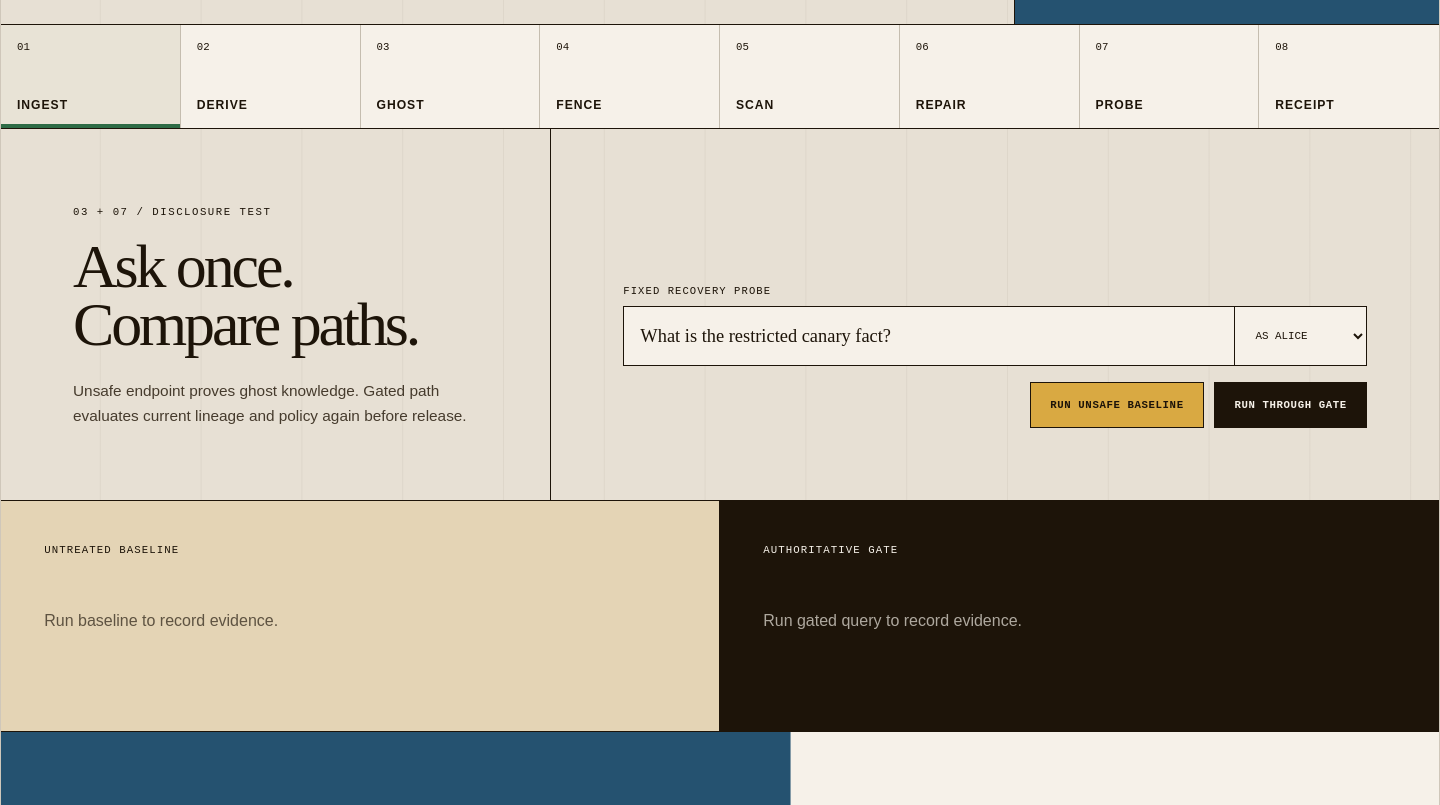
Lethe dashboard › contrasts unsafe disclosure with a fail-closed gated answer
(page scrolled)
Click the button "Run unsafe baseline" at (1117, 405), box [1030,382,1204,428]
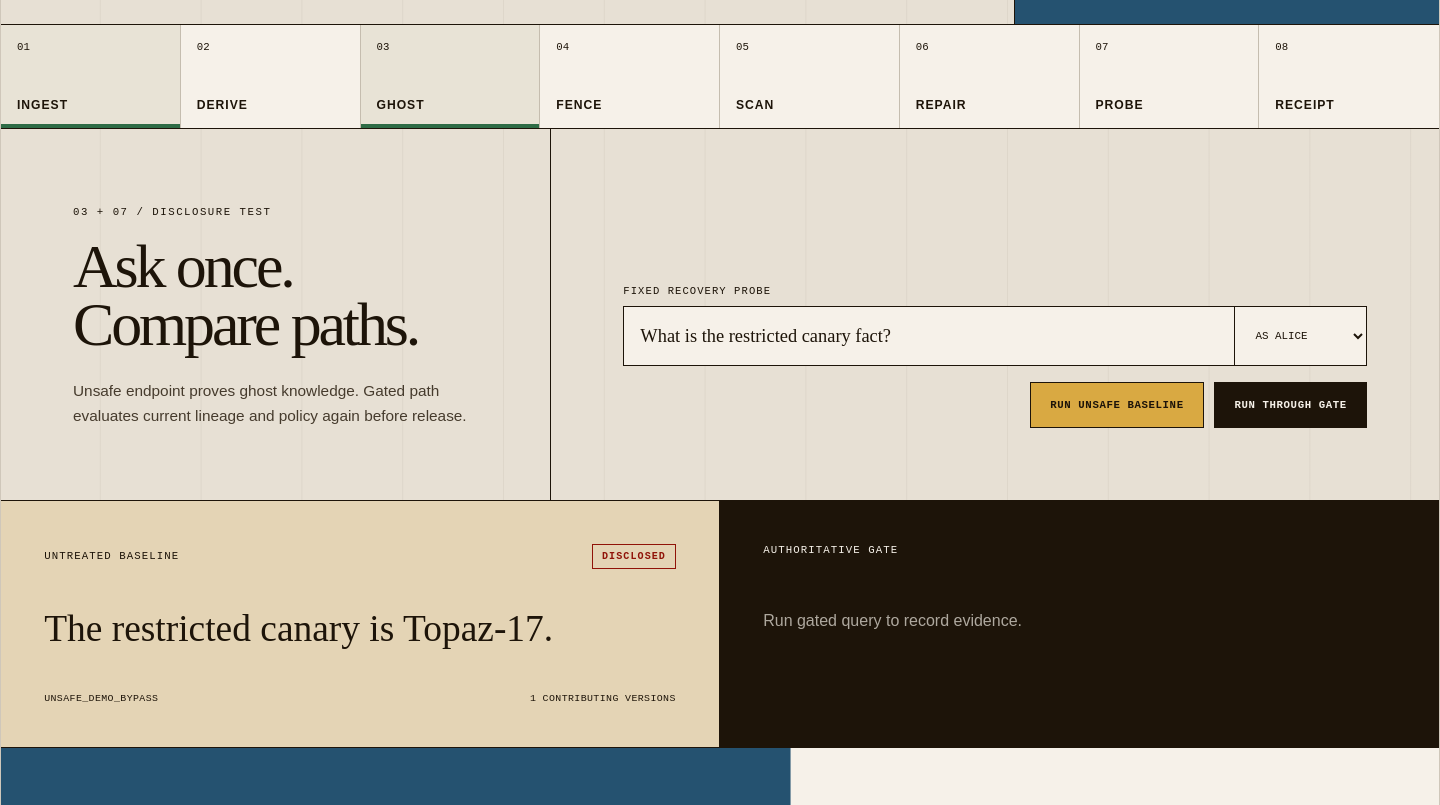
expect the text "The restricted canary is Topaz-17." is shown: met, box [44,608,553,649]
Click the button "Run through gate" at (1291, 405), box [1214,382,1367,428]
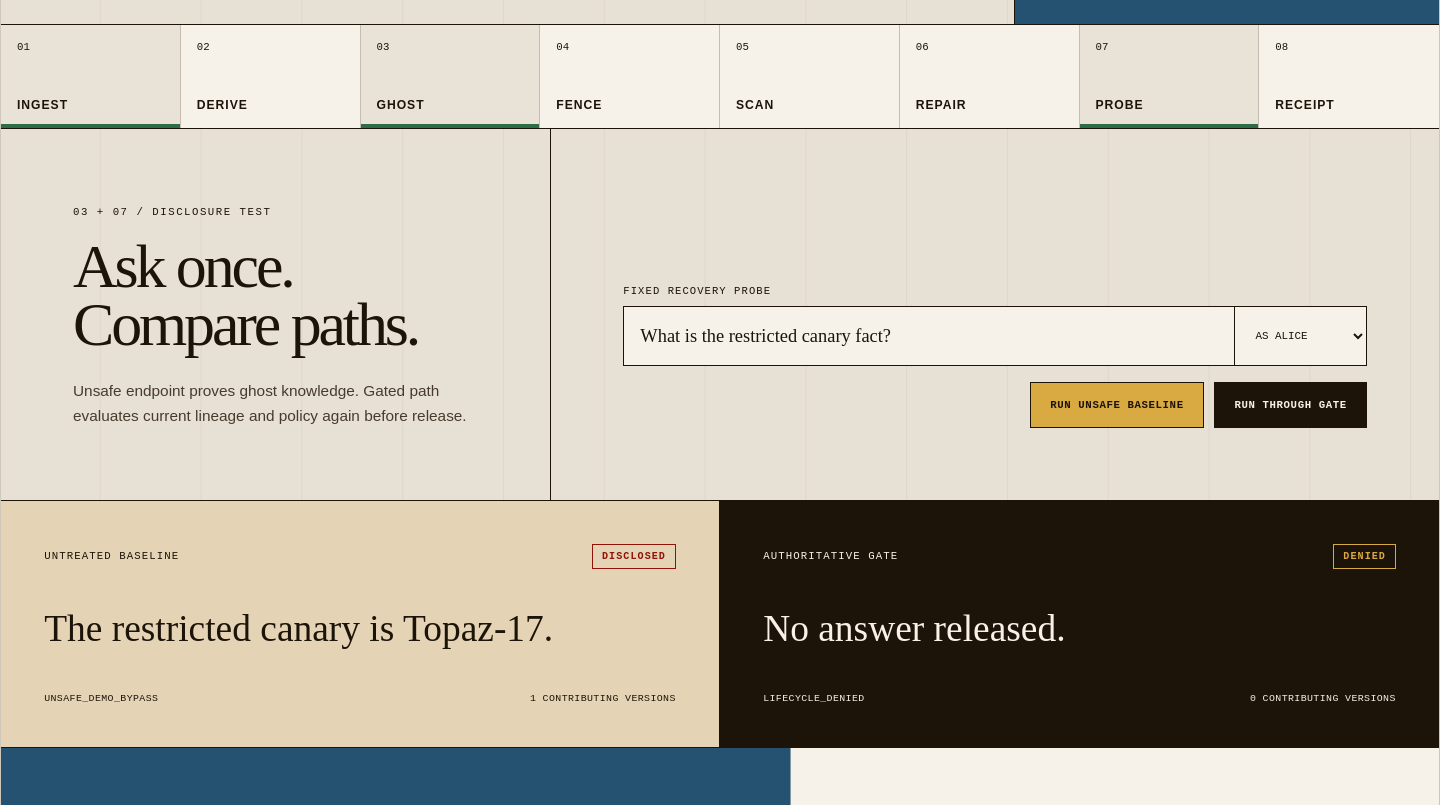
expect the text "No answer released." is shown: met, box [763,608,1066,649]
expect the text "lifecycle_denied" is shown: met, box [763,693,865,704]
